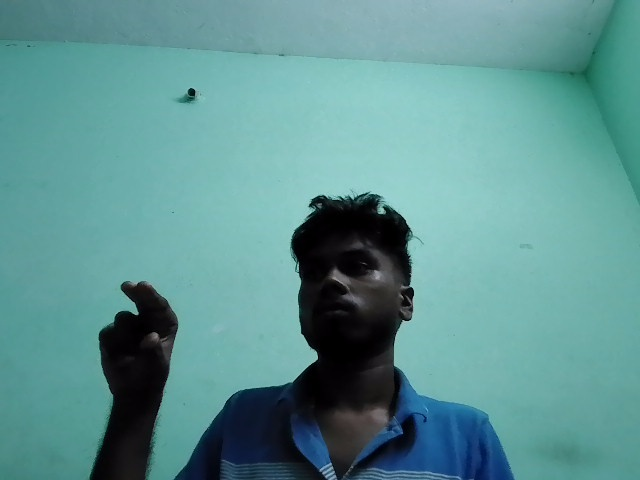No: (68, 261, 210, 405)
